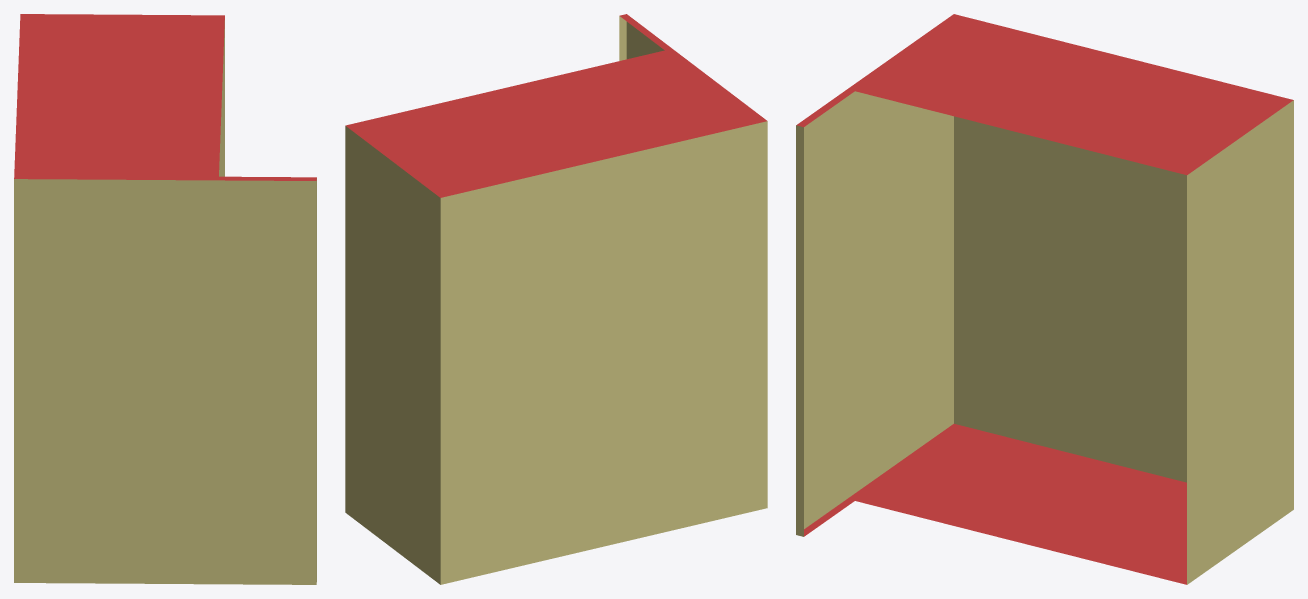
3 renders of one model, left to right at view 1: azimuth 30°, elevation 25°; view 2: azimuth 150°, elevation 25°; view 3: azimuth 270°, elevation 25°, orthographic. The views are drawn at different scales.
Visible parts, largest first — view 1: group_4, group_3; view 2: group_4, group_3; view 3: group_4, group_3, group_5.
Boxes of the visible parts, x1=… form: group_4: x1=14, y1=20, x2=316, y2=584; group_3: x1=14, y1=14, x2=316, y2=180; group_4: x1=345, y1=16, x2=767, y2=584; group_3: x1=345, y1=14, x2=766, y2=197; group_4: x1=796, y1=91, x2=1293, y2=584; group_3: x1=796, y1=14, x2=1293, y2=174; group_5: x1=804, y1=424, x2=1186, y2=584.
Size of the model in its own units: 6.13 by 8 by 7.26.
